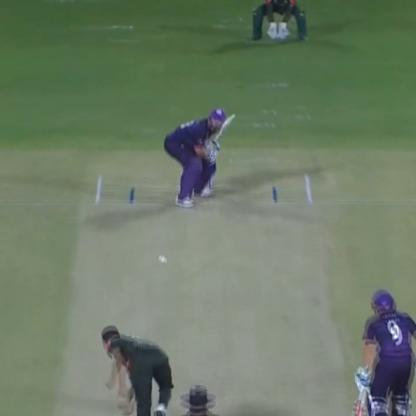ball: (155, 256, 171, 266), (154, 252, 172, 259)
bat: (208, 112, 239, 151), (348, 373, 375, 414)
pitch: (54, 172, 366, 416)
